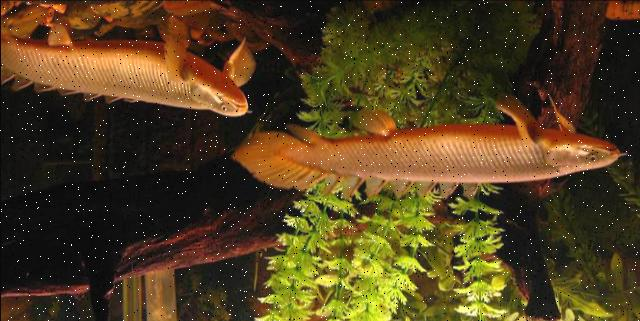Mulut: (587, 126, 631, 168), (218, 84, 254, 120)
Sirip Anal: (282, 114, 330, 154)
Sirip Dada: (484, 80, 580, 150), (157, 28, 257, 89)
Sirip Ekor: (224, 124, 316, 196)
Sirip Perut: (342, 96, 408, 142), (34, 6, 86, 56)
Sirip Punggung: (0, 57, 142, 110), (308, 163, 484, 205)
